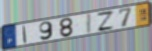7: (118, 6, 134, 28)
8: (59, 17, 74, 38)
9: (39, 20, 54, 41)
I: (85, 12, 93, 35), (22, 25, 28, 44)
Z: (96, 10, 115, 32)
